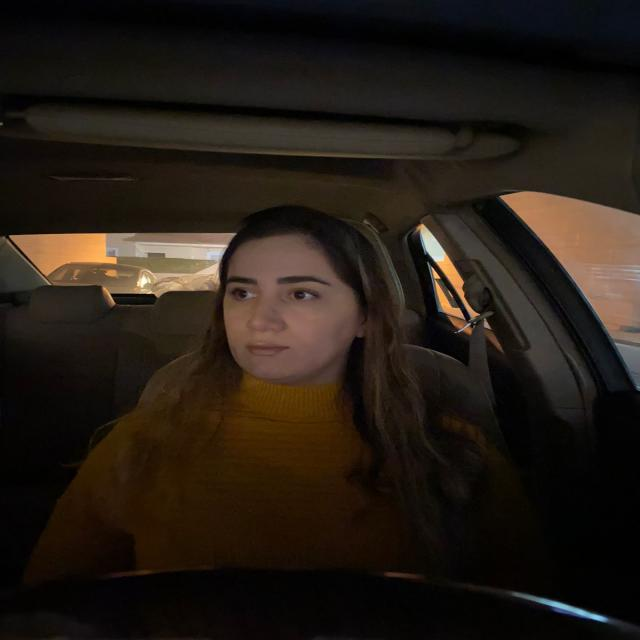person: (210, 212, 382, 392)
